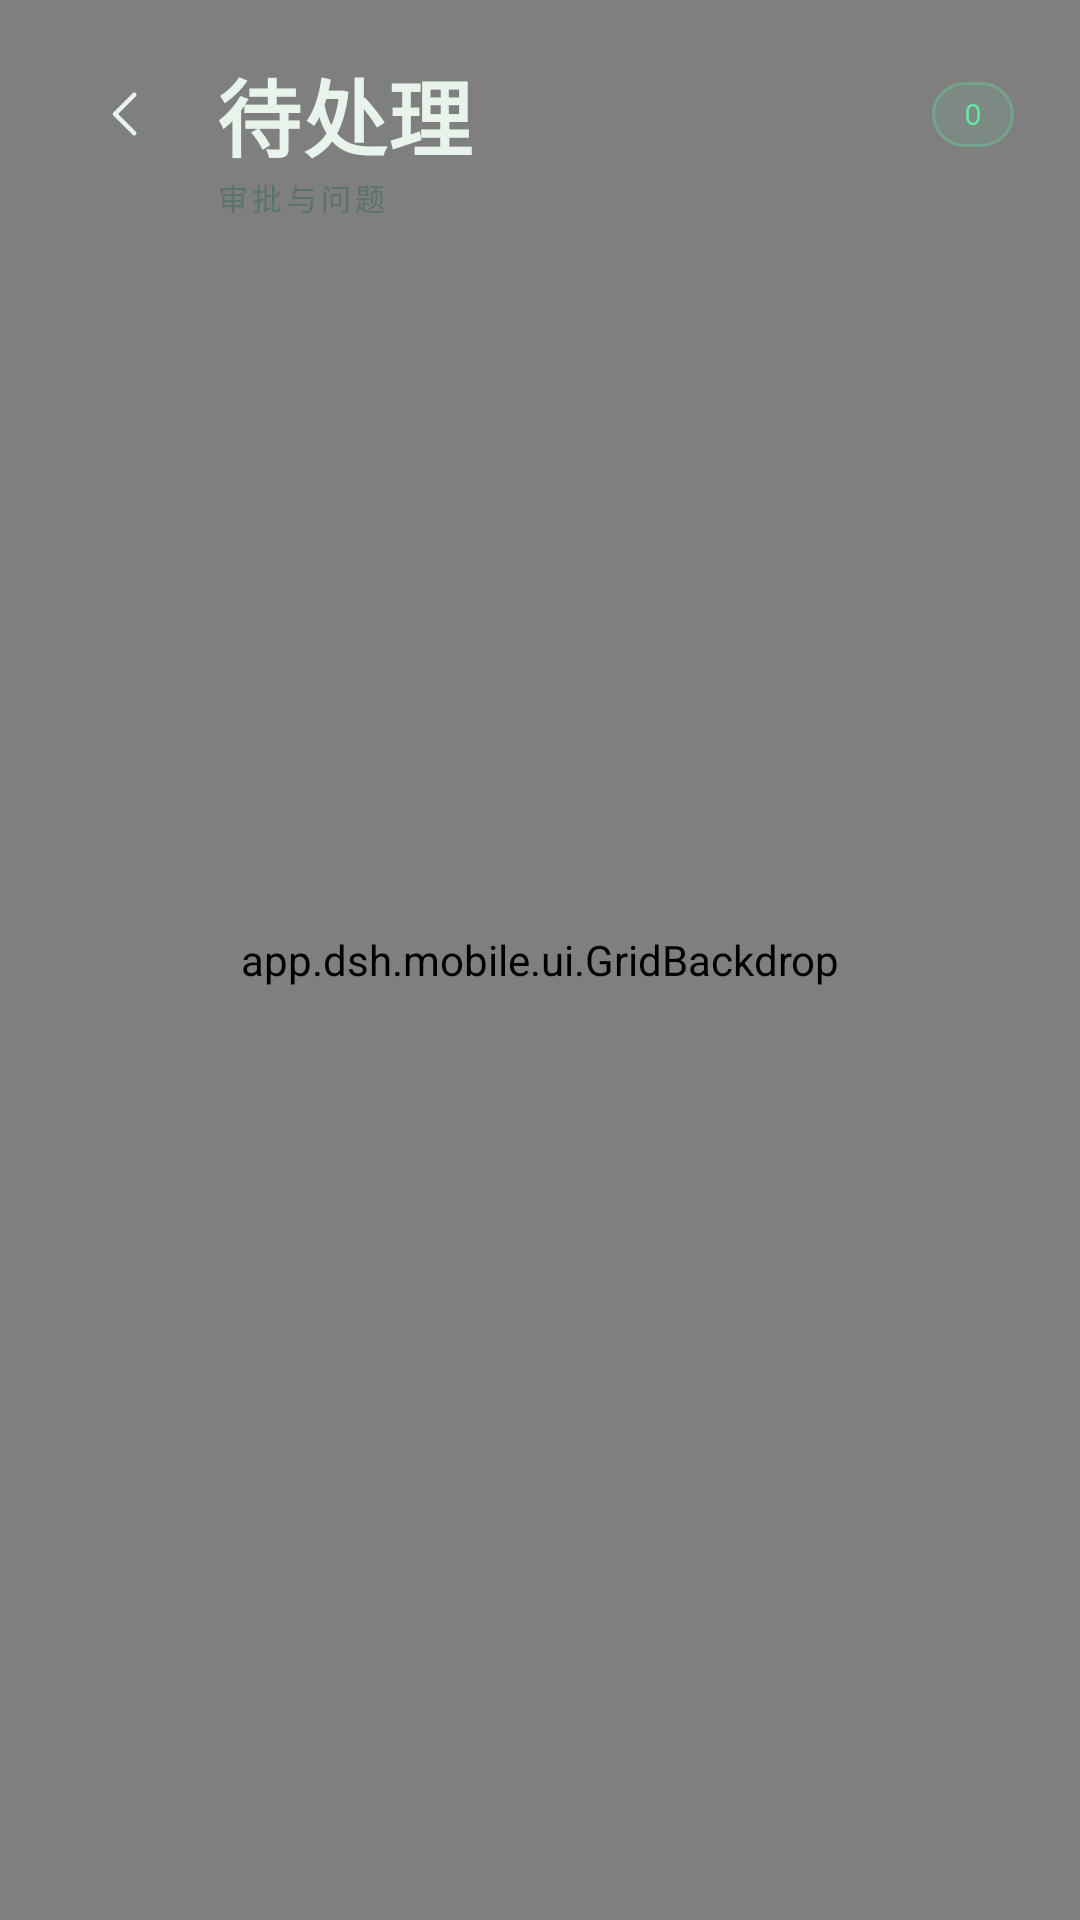

Icon bounding boxes for this 1080×1920 phone screenshot, format [left=x1, top=y1, right=x2, bottom=y2]:
arrow back: [left=113, top=92, right=137, bottom=136]
